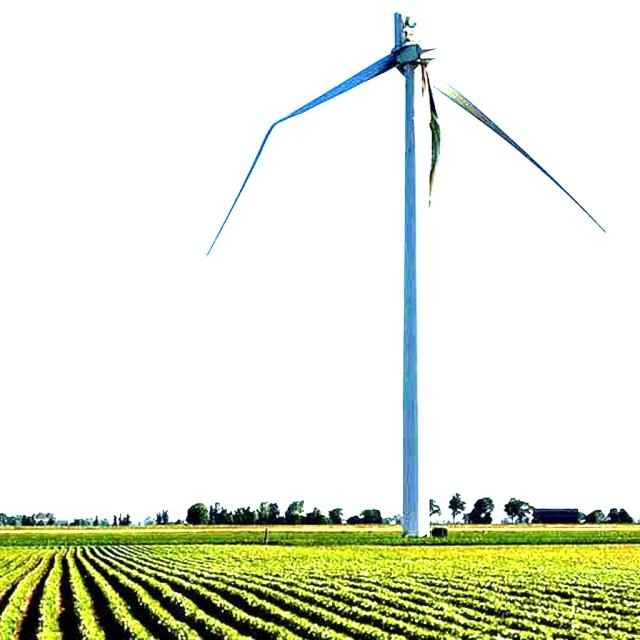crack: (203, 100, 308, 264), (384, 4, 451, 214)
